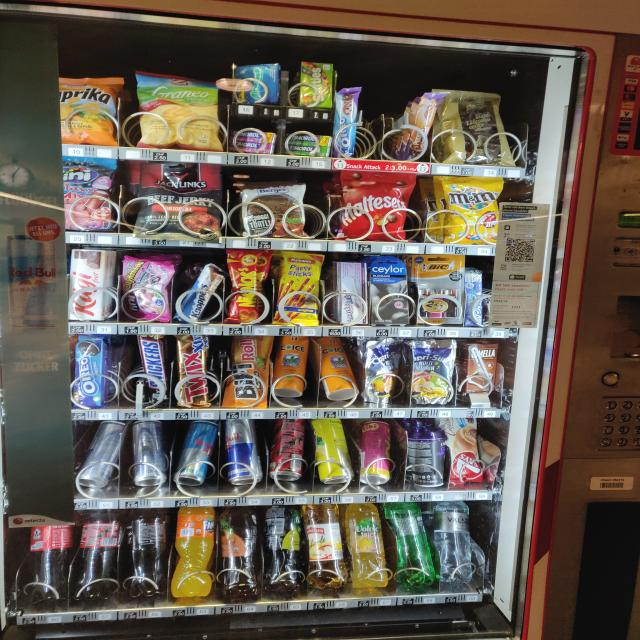7days_croissantschoko_packung_80_1_0000000000003: (442, 420, 483, 483)
airwaves_menthoneucalyptus_riegel_14_1_50173167: (232, 62, 282, 103)
bifi_roll__50__4251097402635: (223, 335, 274, 408)
c-swiss_dosenabisicetea__33__9120025930135: (268, 334, 311, 401), (316, 338, 361, 399)
caferoyal_classicmacchiato__33__7617014164487: (404, 423, 450, 492)
caprisun_multivitamin__20__4000177605004: (358, 337, 406, 407), (408, 339, 458, 406)
coke__dose_33__54491472: (267, 418, 308, 483)
coke__flasche_50__54491472: (21, 510, 74, 600), (74, 509, 120, 601)
coke_zero_flasche_50__5449000131836: (122, 512, 174, 601)
comella_schokodrink__33__7613100037253: (458, 341, 505, 396)
fanta___50__40822938: (170, 504, 220, 598)
fini_galaxymix_packung_100_1_8410525150364: (50, 158, 121, 233)
fini_jellykisses_packung_80_1_8410525116704: (120, 257, 179, 321)
fuse_lemon__50__5449000235947: (262, 506, 306, 592)
fuse_lemon_dose_33__5449000235947: (316, 420, 353, 492)
fuse_peach__50__5449000236623: (220, 506, 266, 603)
jacklinks_beefjerkyorginal__25__4047751730219: (134, 162, 225, 240)
jlbrichard_gauffrechoko__90__5410495002079: (432, 94, 510, 165)
kagi___50__7610046000259: (62, 249, 111, 324)
knoppers_riegel____4035800488808: (180, 263, 225, 322)
lorenz_nicnacs__40__4018077798818: (232, 248, 266, 324)
malburner_partysticks__40__7610200279682: (269, 250, 327, 326)
maltesers___100__5000159023061: (339, 170, 421, 242)
mnms_gelb__45__40111445: (439, 179, 508, 247)
oreo___66__84100733: (74, 338, 108, 409)
ramseier_schorle__50__7610057012456: (303, 503, 350, 589)
redbull___33__90162909: (76, 421, 124, 492), (124, 423, 170, 485), (224, 417, 261, 486)
redbull_light__33__90162800: (176, 423, 221, 485)
skittles_sour_riegel_51_1_0000000000004: (293, 58, 340, 110)
snickers___50__5000159461122: (139, 333, 172, 408)
stimorol_spearmint_riegel_14_1_0000000000005: (290, 136, 332, 154)
stimorol_wildcherry_riegel_14_1_57060330: (230, 126, 278, 153)
tiki_himbeer_brause__50__00000000009342: (358, 421, 392, 487)
twix___50__5000159459228: (172, 336, 214, 409)
valser_classic__50__76404160: (388, 502, 431, 589)
valser_still__50__7610335002575: (426, 500, 476, 590)
volvic_pinapple__50__305764335648: (345, 505, 387, 589)
zweifel_graneochilli__100__7610095184009: (129, 72, 224, 148)
zweifel_paprika__90__7610095013002: (48, 73, 127, 144)
